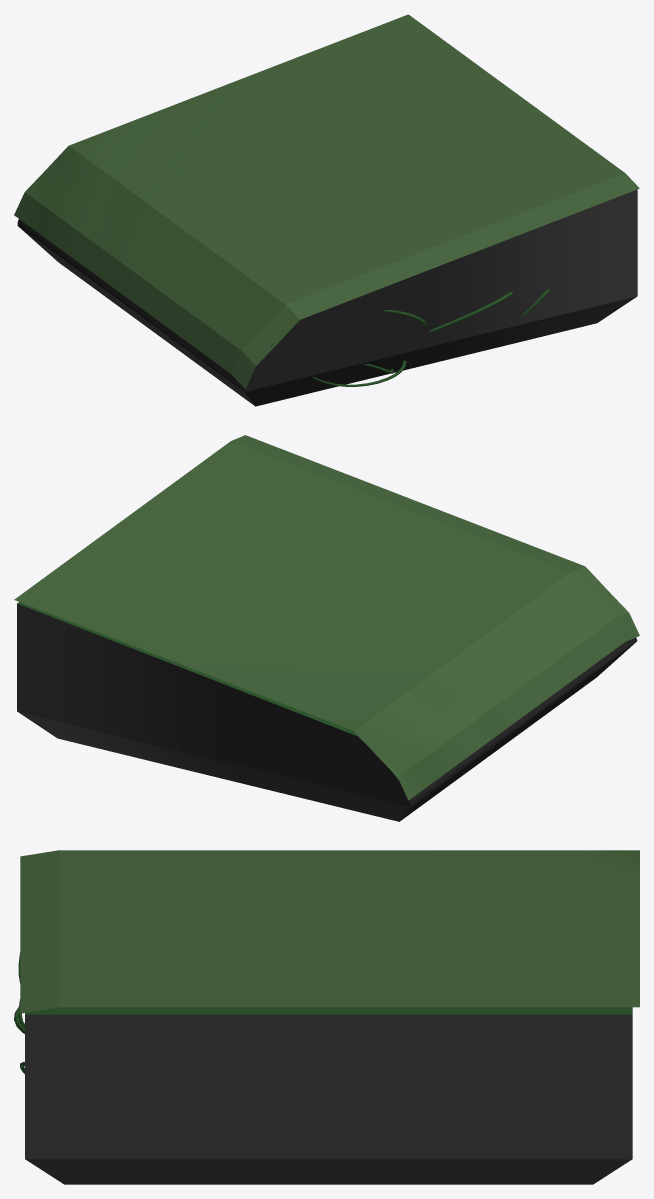
The model's file is leftslope_platform.fbx.
3 views of the same model, one above another, from view 1: azimuth 30°, elevation 25°; view 2: azimuth 150°, elevation 25°; view 3: azimuth 270°, elevation 25° (orthographic). The views are drawn at different scales.
Visible parts, largest first — view 1: Cube.028; view 2: Cube.028; view 3: Cube.028.
Part boxes in pixels (x1,y1,x2,y2): Cube.028: [14, 14, 639, 406]; Cube.028: [14, 435, 639, 821]; Cube.028: [14, 850, 639, 1184].
Bounding box in the file's own units: 1055 × 371 × 1083.
